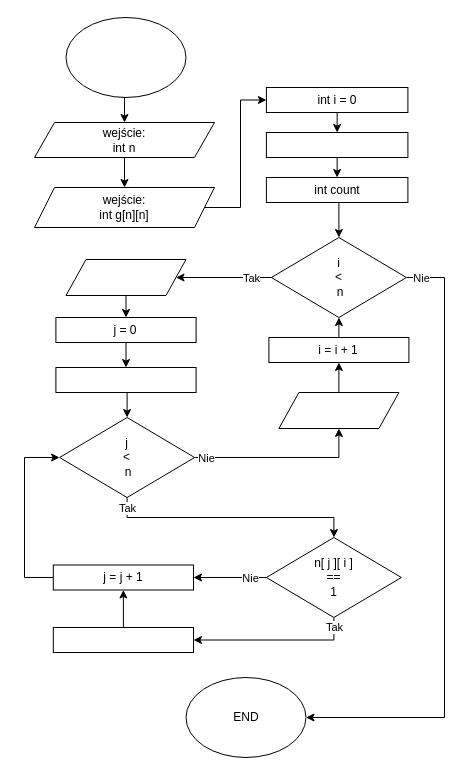
Image size: 470x775. Some labels were removed from this diagram. Each missing label, with the centre of its shape:
count = 0: the point at 125,379
count = count + 1: the point at 123,639
int j: the point at 336,145
START: the point at 125,57
wypisz: count: the point at 338,410
wypisz: i: the point at 125,277
